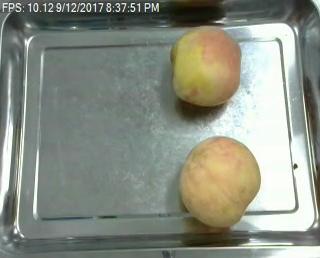Peach: (180, 136, 260, 226), (170, 24, 241, 105)
